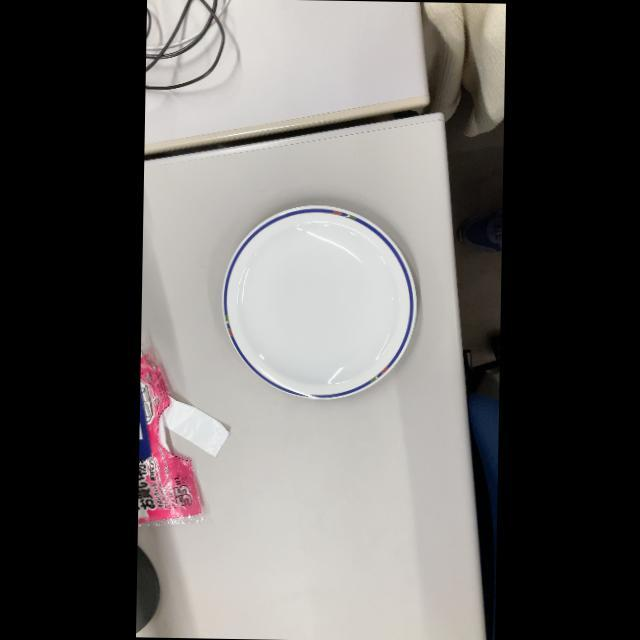Plate: (216, 197, 421, 403)
